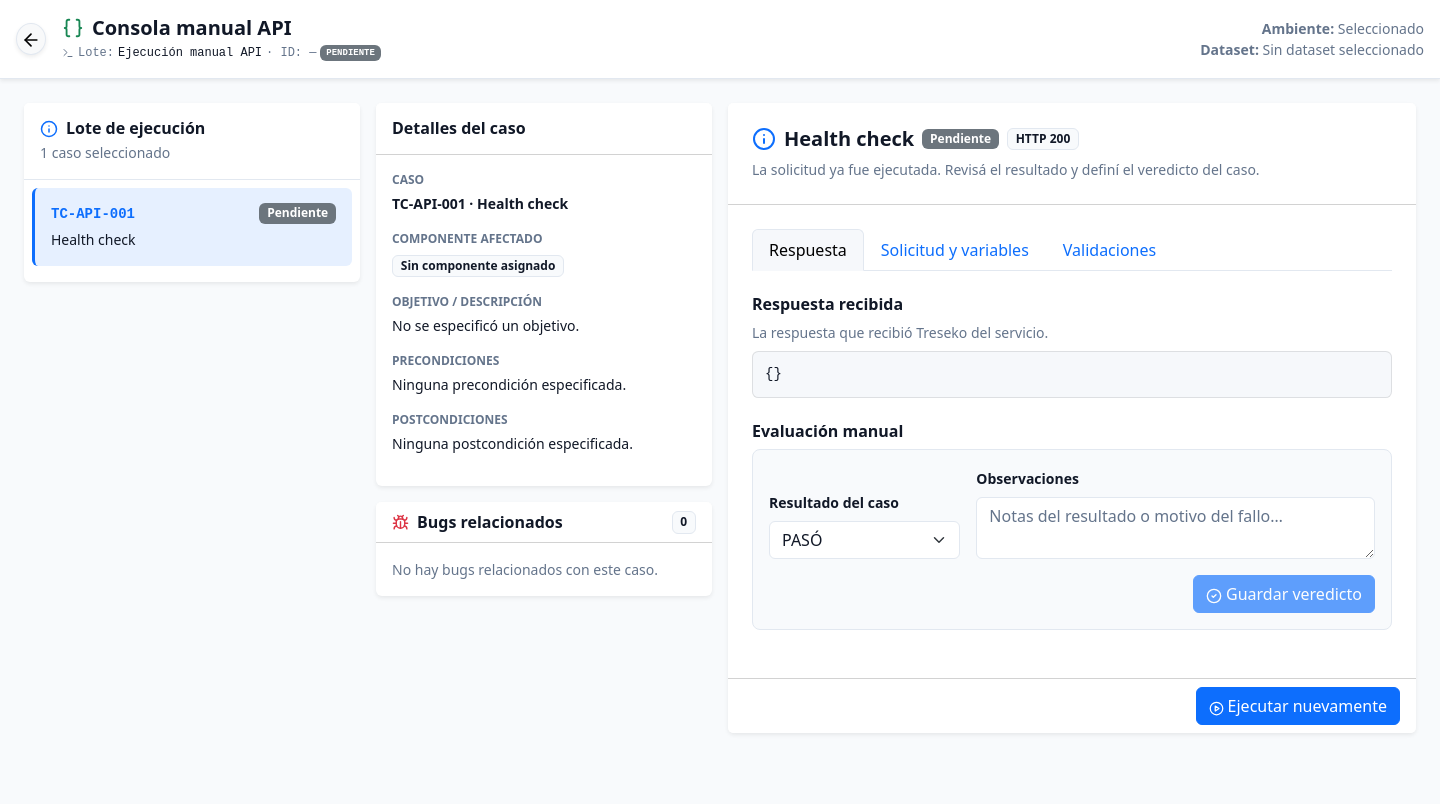
Scenario: ApiExecutionConsolePage › mantiene visibles las variables y el selector de valores resueltos después de ejecutar
Click the button "Solicitud y variables" at (955, 250), box [881,239,1029,261]
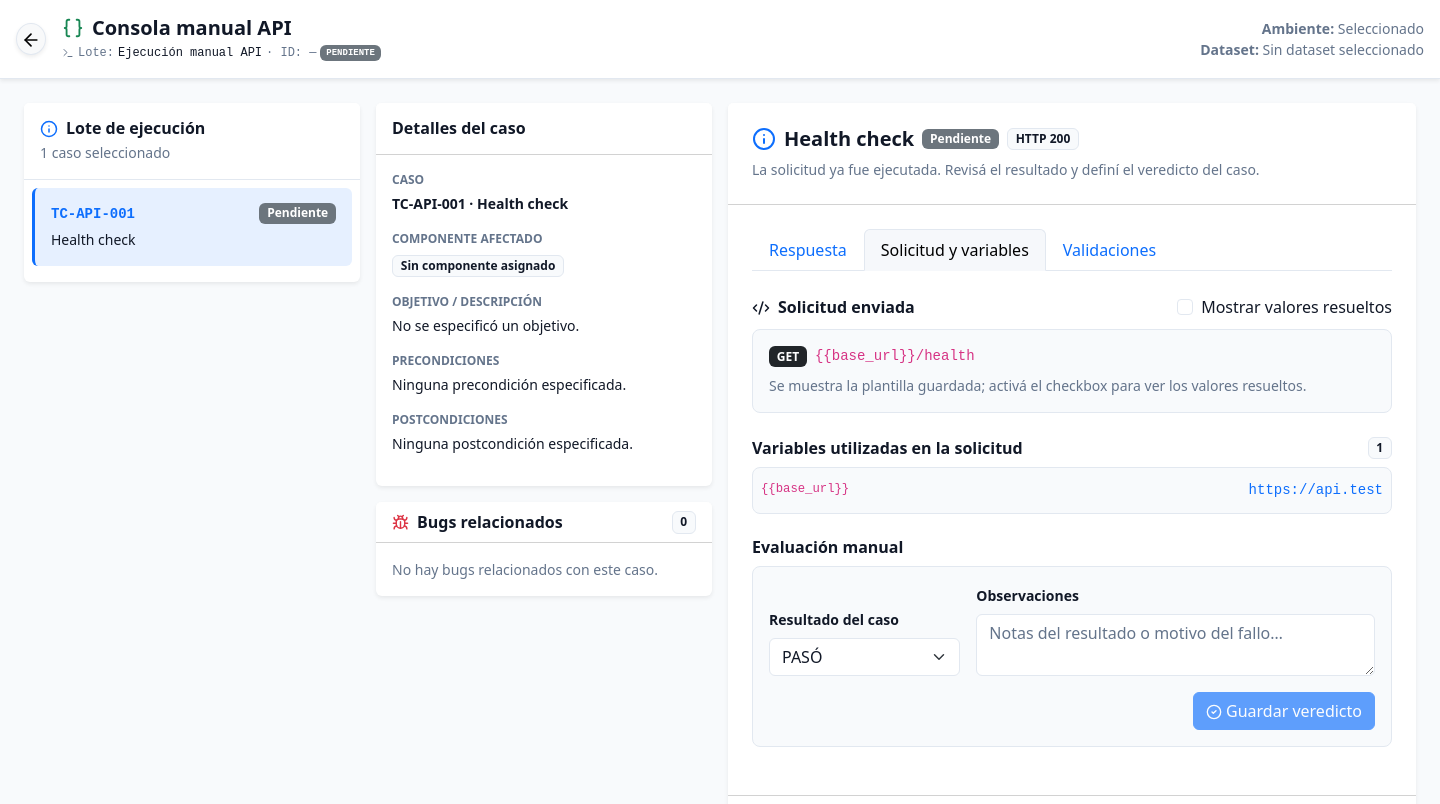
Check: the checkbox labelled "Mostrar valores resueltos" is shown
Check: the heading "Variables utilizadas en la solicitud" is shown, box [752,439,1023,458]
Click the checkbox labelled "Mostrar valores resueltos" at (1185, 307), box [1177,299,1193,315]
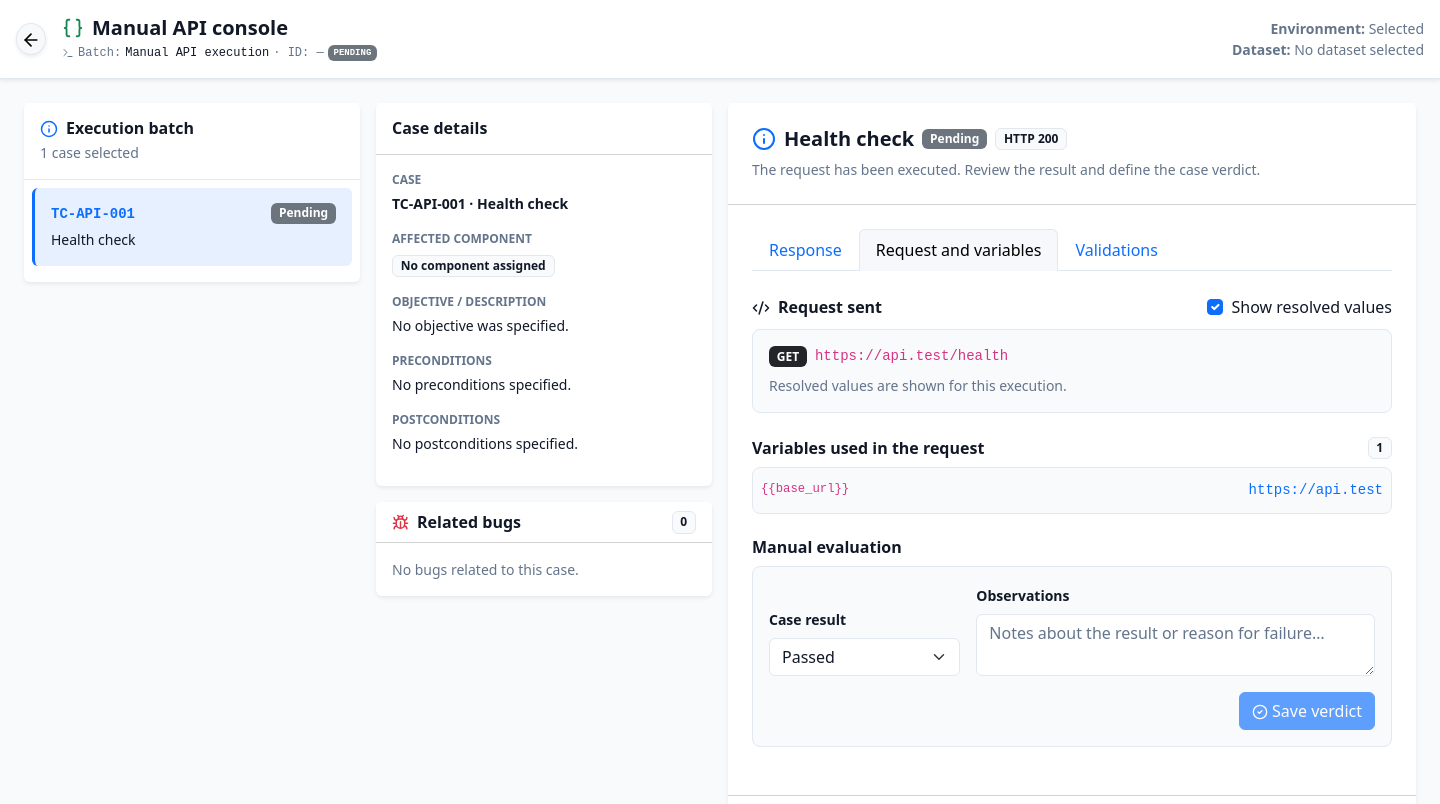
Check: the text "https://api.test/health" is shown, box [815,346,1008,367]
